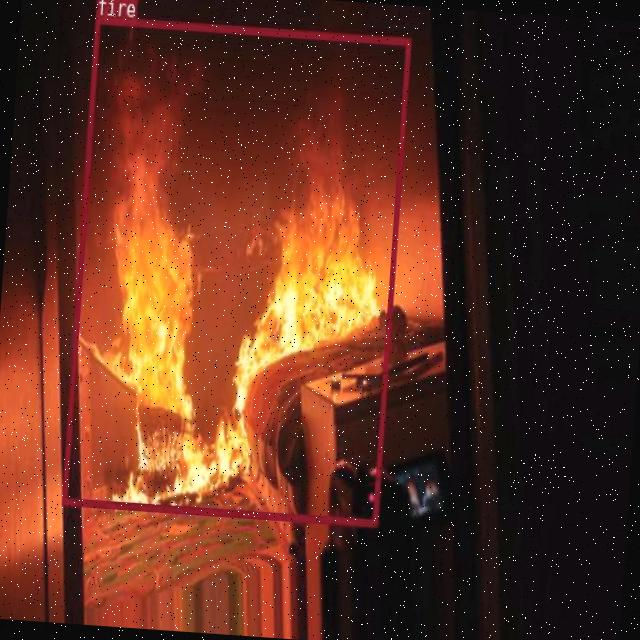fire: (61, 14, 410, 525)
